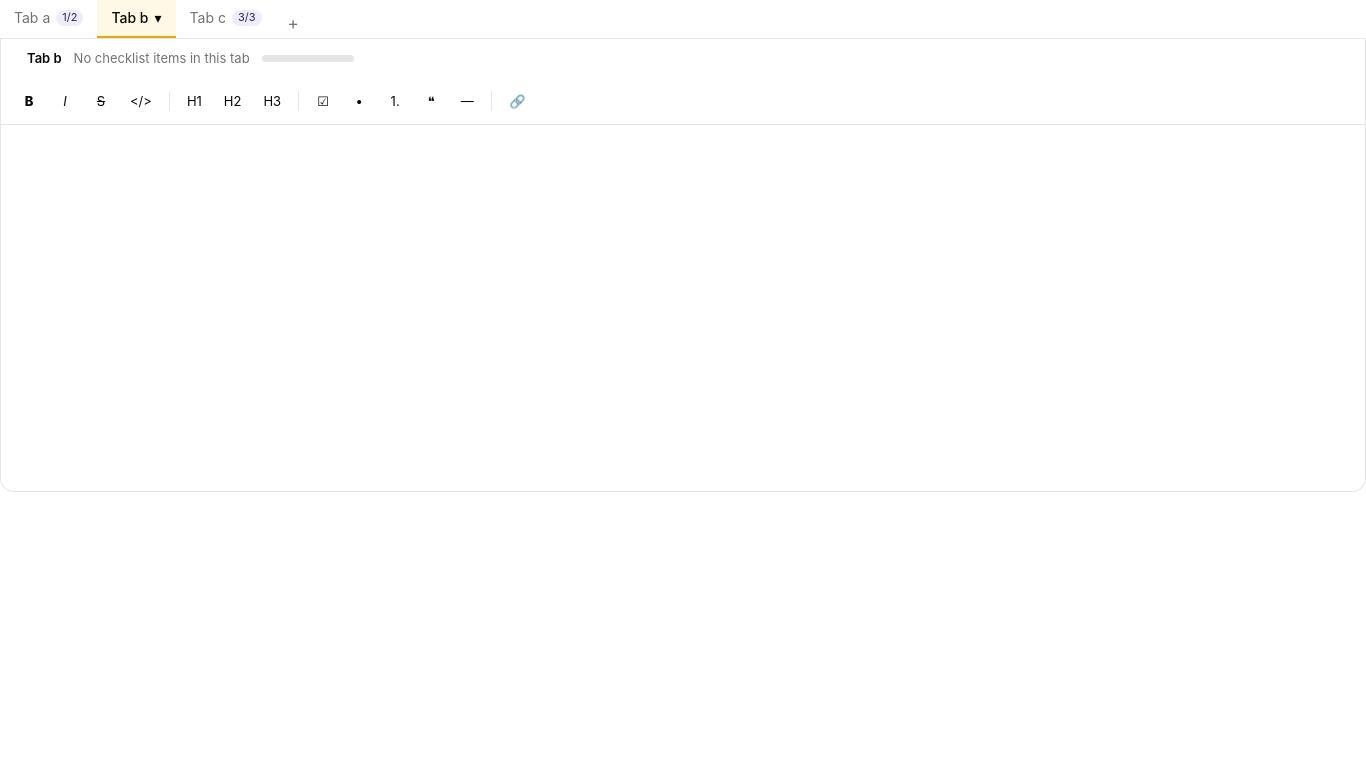
Scenario: deleting a tab › keeps the tab and shows the refusal when the delete is refused
Click the tab "Tab b ▾". click: [136, 19]
box: [97,0,176,38]
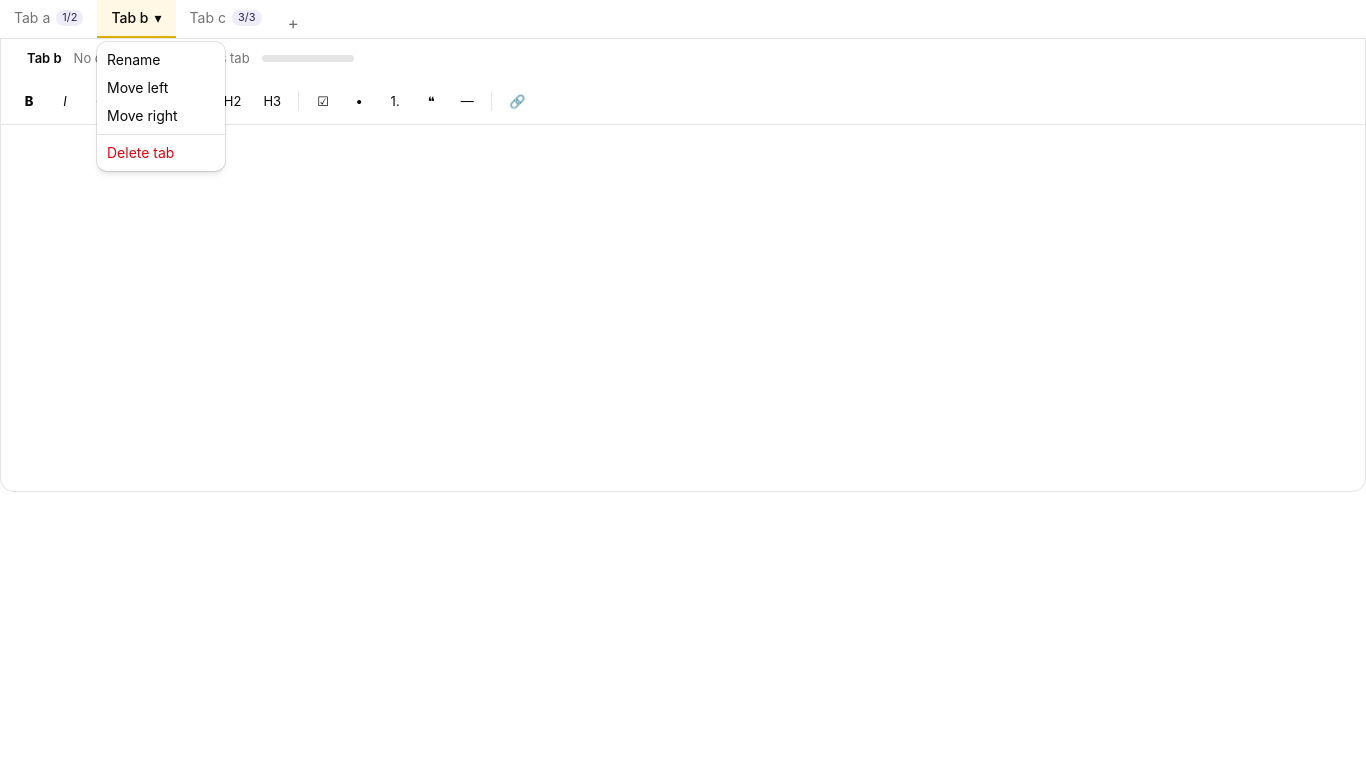
Click the menu item "Delete tab". click: [141, 152]
box: [107,144,174,161]
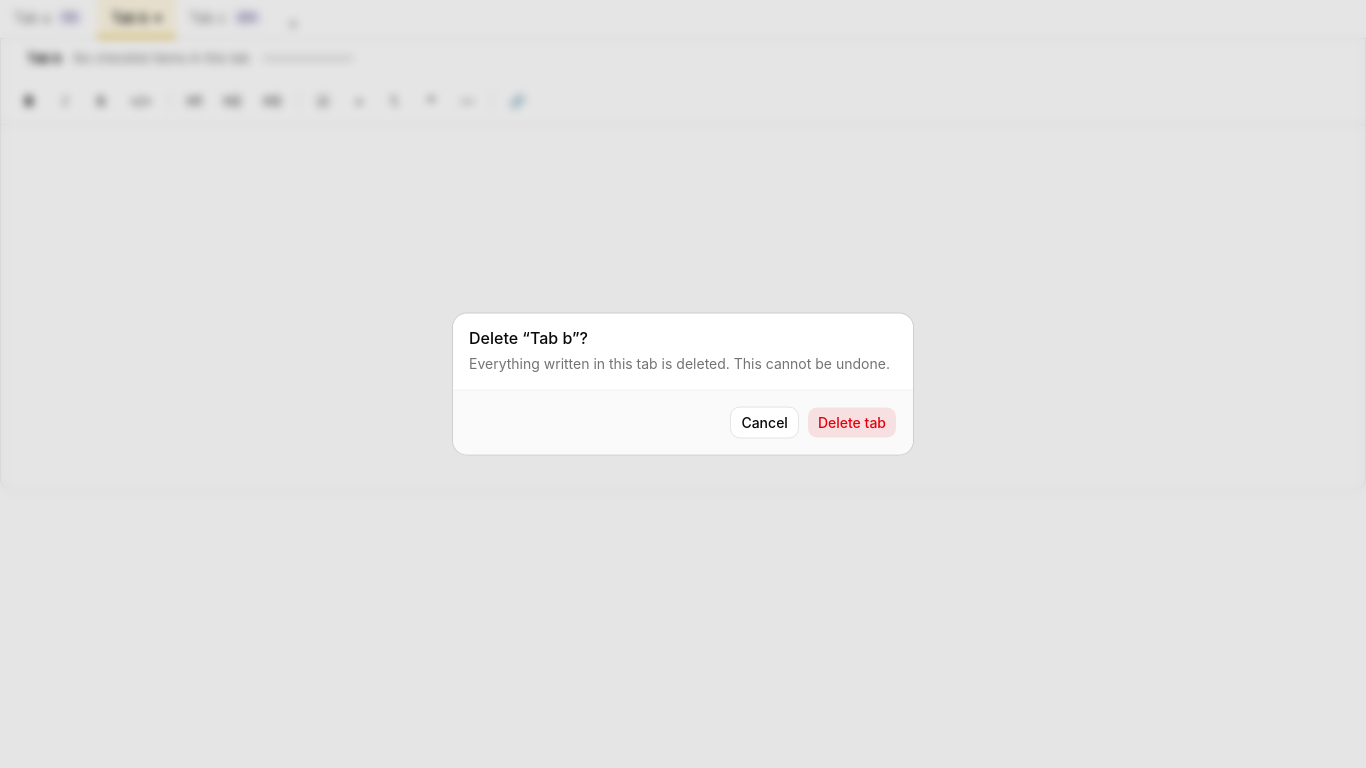
Check: the text "Everything written in this tab is deleted. This cannot be undone." is shown, box [469,354,897,374]
Click the button "Delete tab". click: [852, 422]
box: [807,406,897,438]
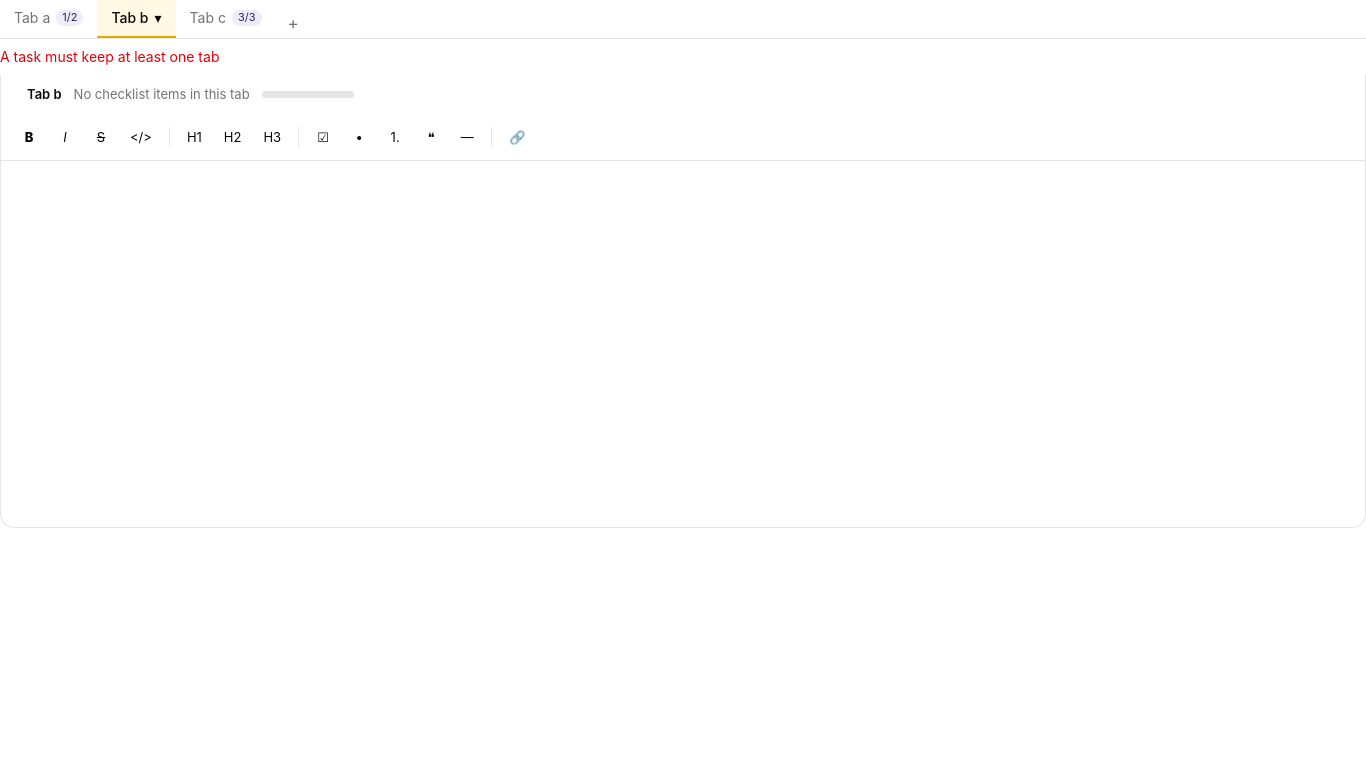
Check: the number of tabs is 3, box [0,0,97,38]; [97,0,176,38]; [176,0,276,38]
Check: the message reads "A task must keep at least one tab", box [0,48,220,65]
